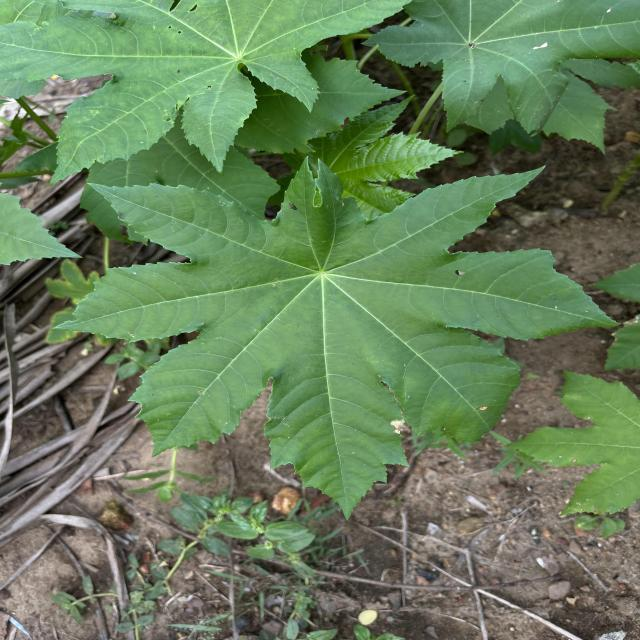Ricinus communis linn: (45, 152, 628, 526)
